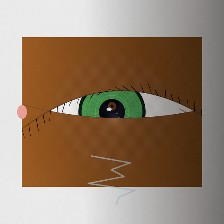foreign_body_visible: (103, 99, 121, 114)
